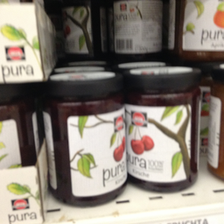jam: (42, 72, 131, 208), (125, 65, 204, 194)
